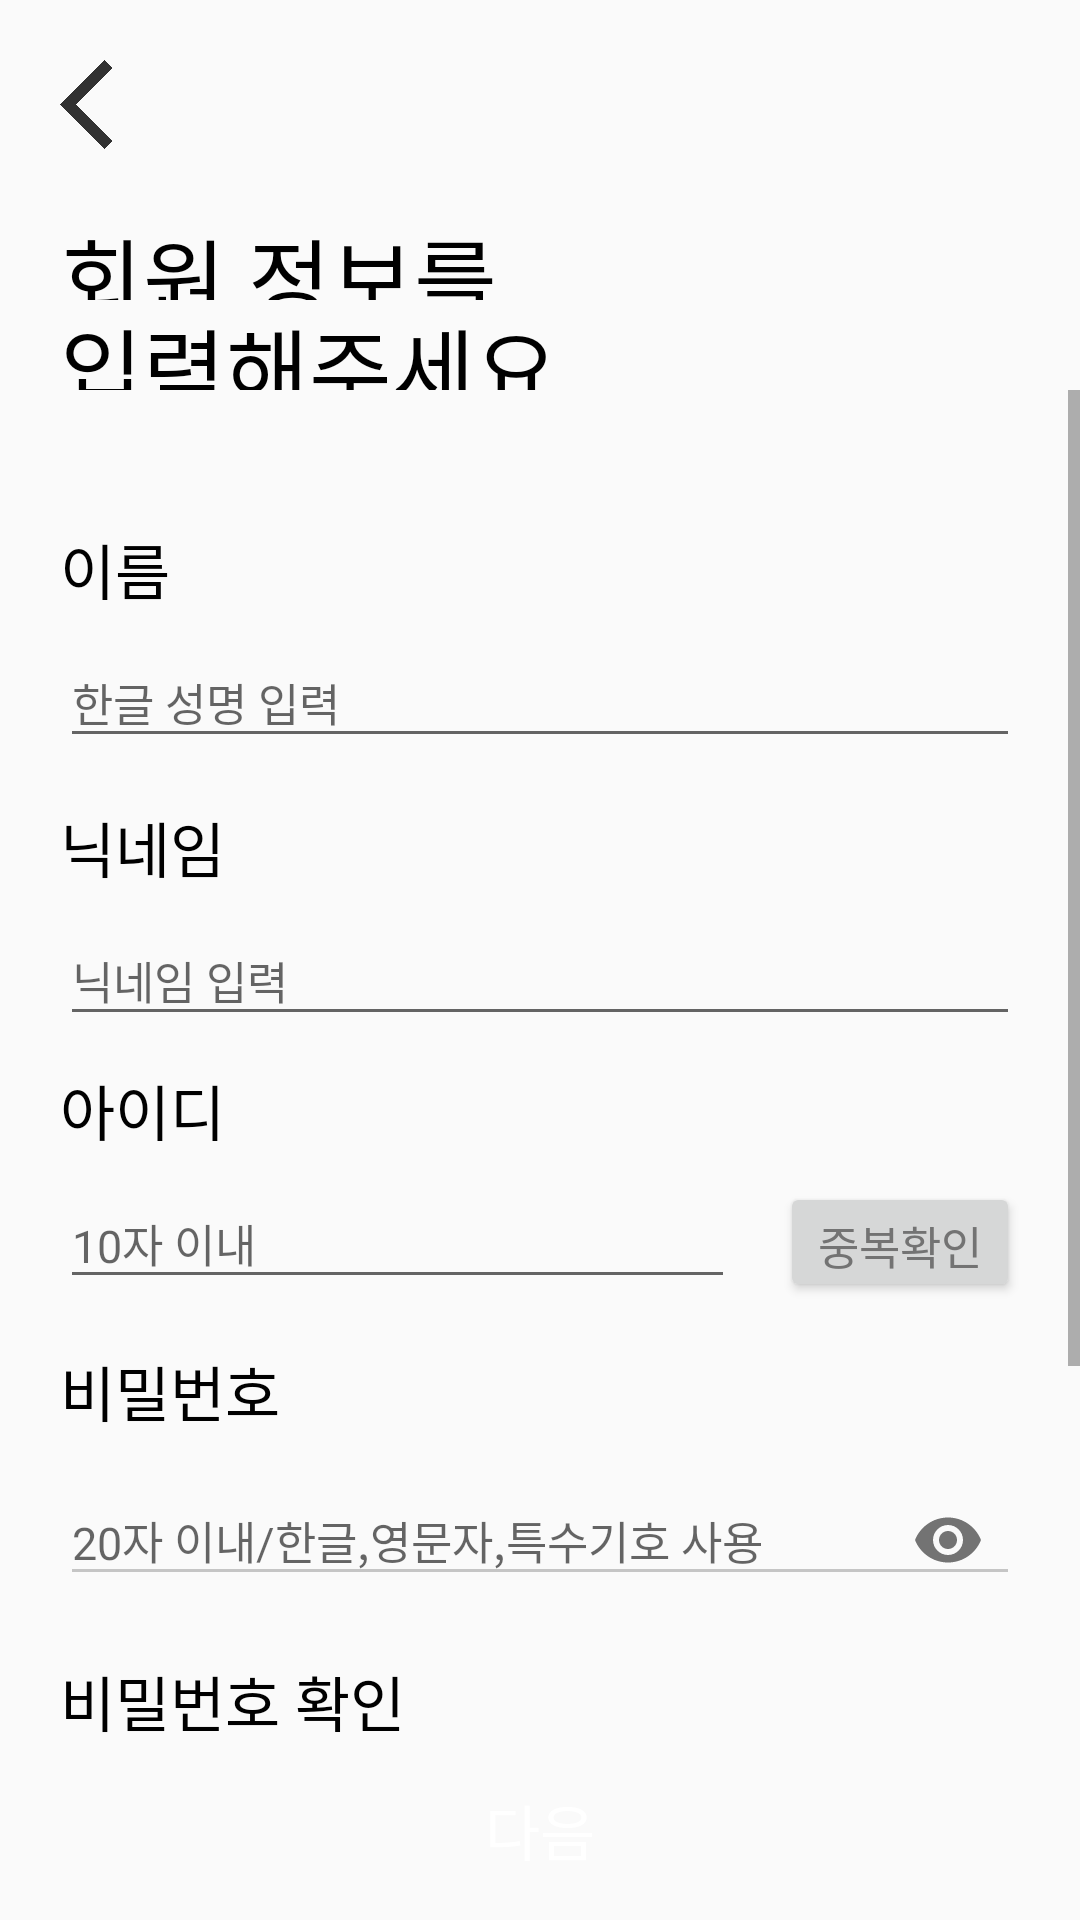

Screen size 1080x1920. Icon name, then its center in pixels as [x,y]:
return page: [86,104]
